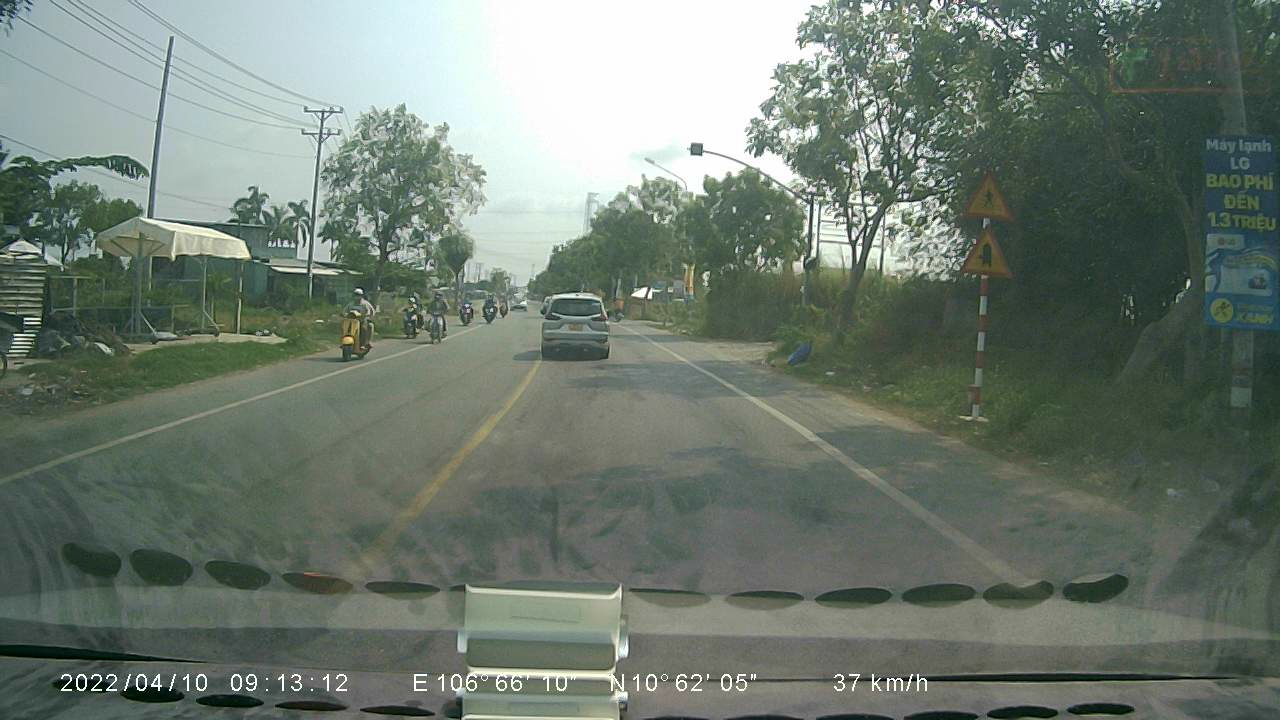Giao nhau voi duong khong uu tien: (956, 220, 1019, 279)
